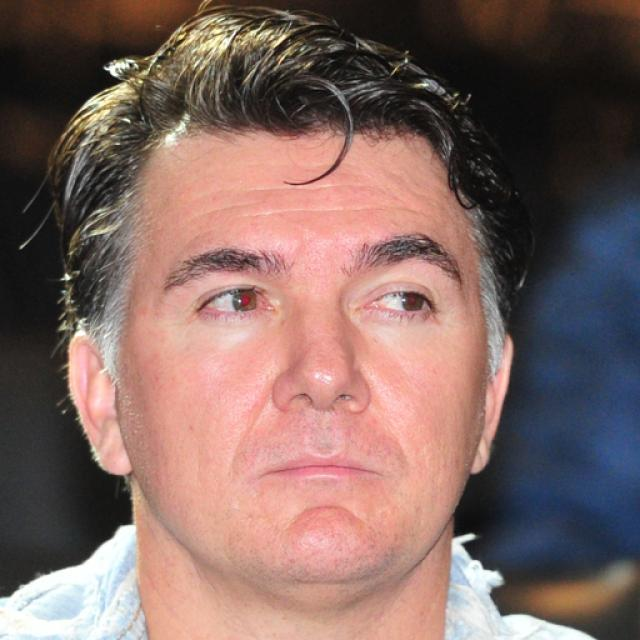neutral: (116, 112, 490, 582)
